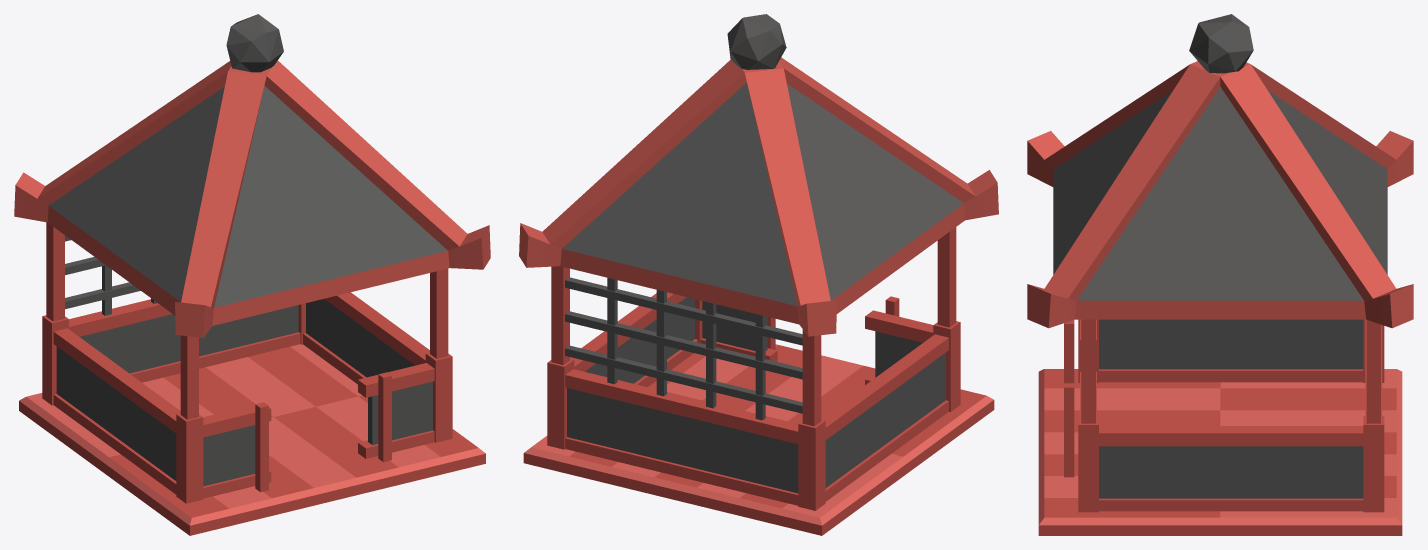
File: building_6.fbx
The picture shows the model from 3 angles, left to right: view 1: azimuth 30°, elevation 25°; view 2: azimuth 150°, elevation 25°; view 3: azimuth 270°, elevation 25°; orthographic projection. The views are drawn at different scales.
Parts seen in each view (by area): view 1: building_6; view 2: building_6; view 3: building_6.
Part boxes in pixels (x1,y1,x2,y2): building_6: (14,14,490,535); building_6: (519,14,998,535); building_6: (1027,14,1413,535).
Bounding box in the file's own units: 450 × 569 × 450.
